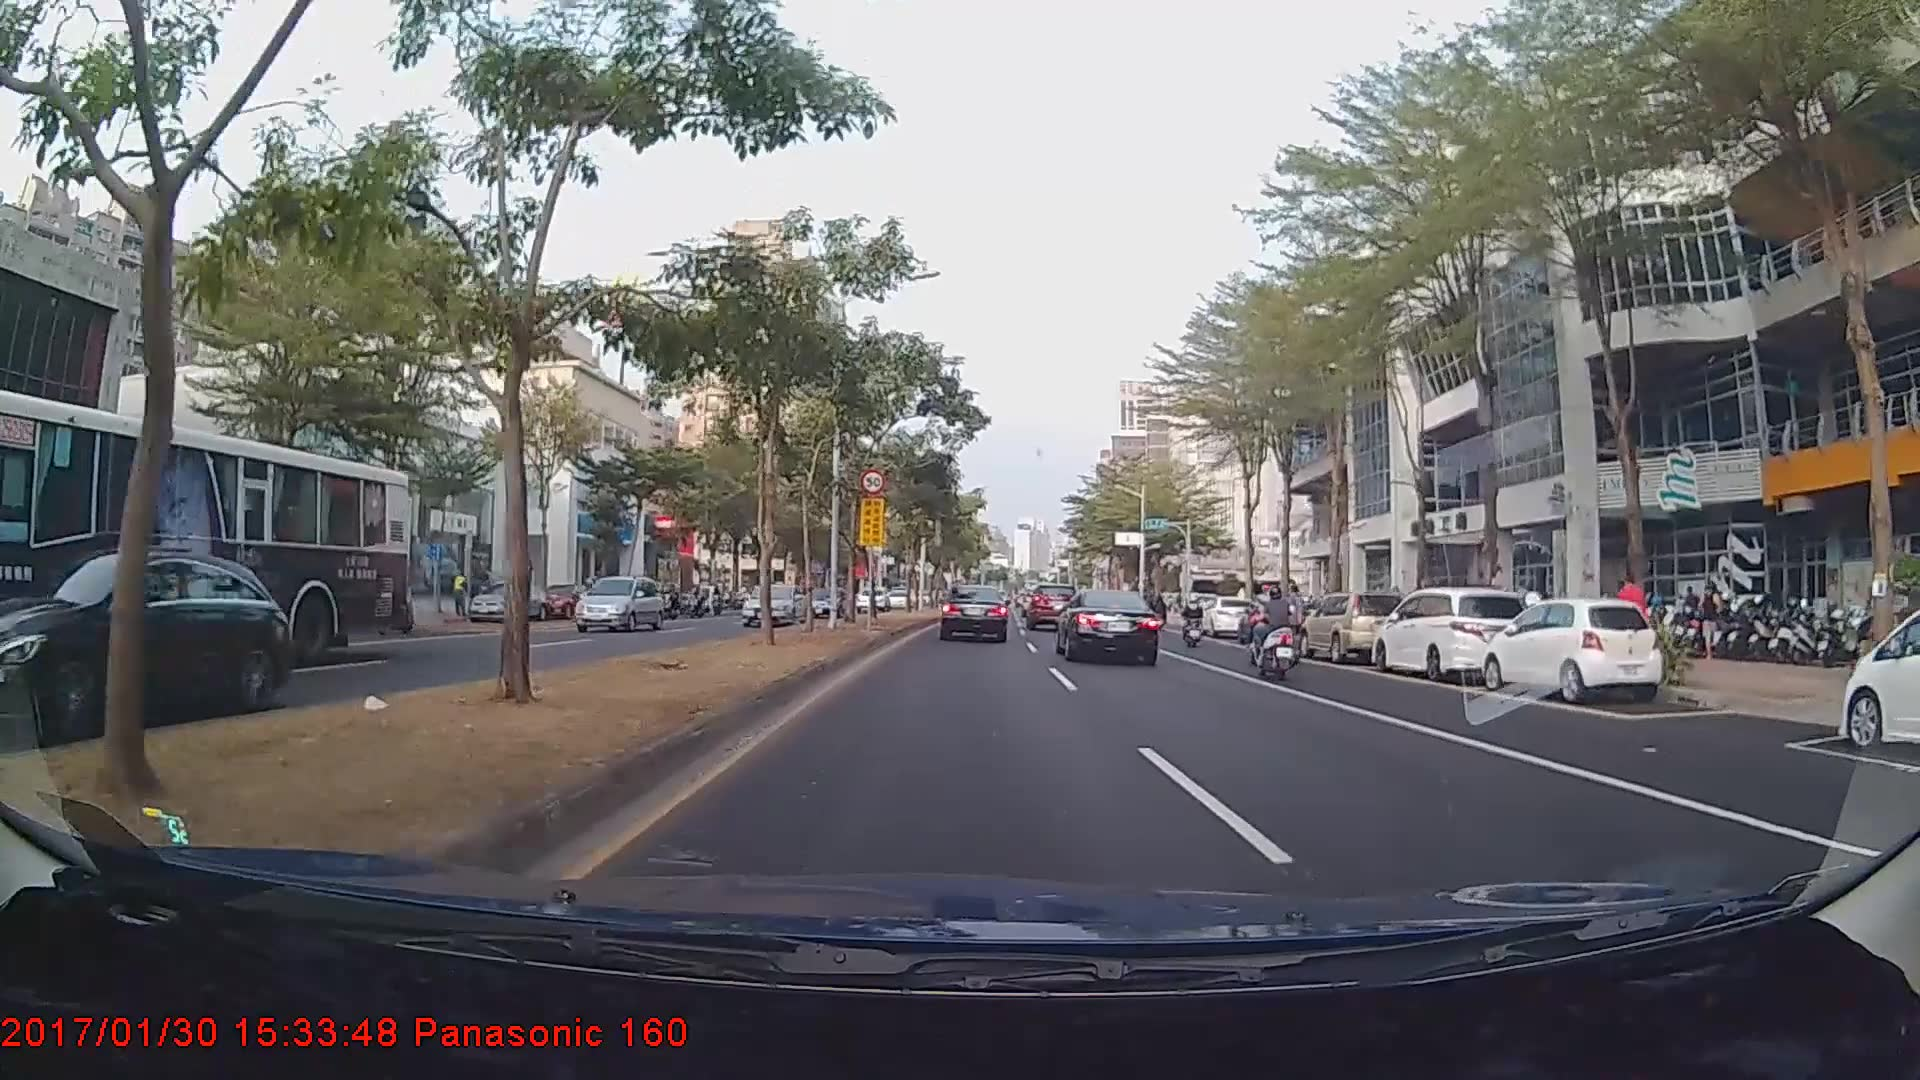rider: (1243, 582, 1313, 679), (1177, 590, 1208, 646)
vehicle: (0, 390, 414, 680), (0, 547, 294, 733), (1477, 595, 1663, 702), (1374, 585, 1531, 684), (1834, 583, 1918, 761), (1055, 585, 1162, 667), (1297, 588, 1408, 663), (569, 576, 661, 631), (939, 582, 1009, 643), (466, 578, 544, 623), (740, 582, 804, 626), (1200, 594, 1256, 639), (1025, 584, 1077, 630), (803, 584, 848, 616), (854, 586, 889, 612)
